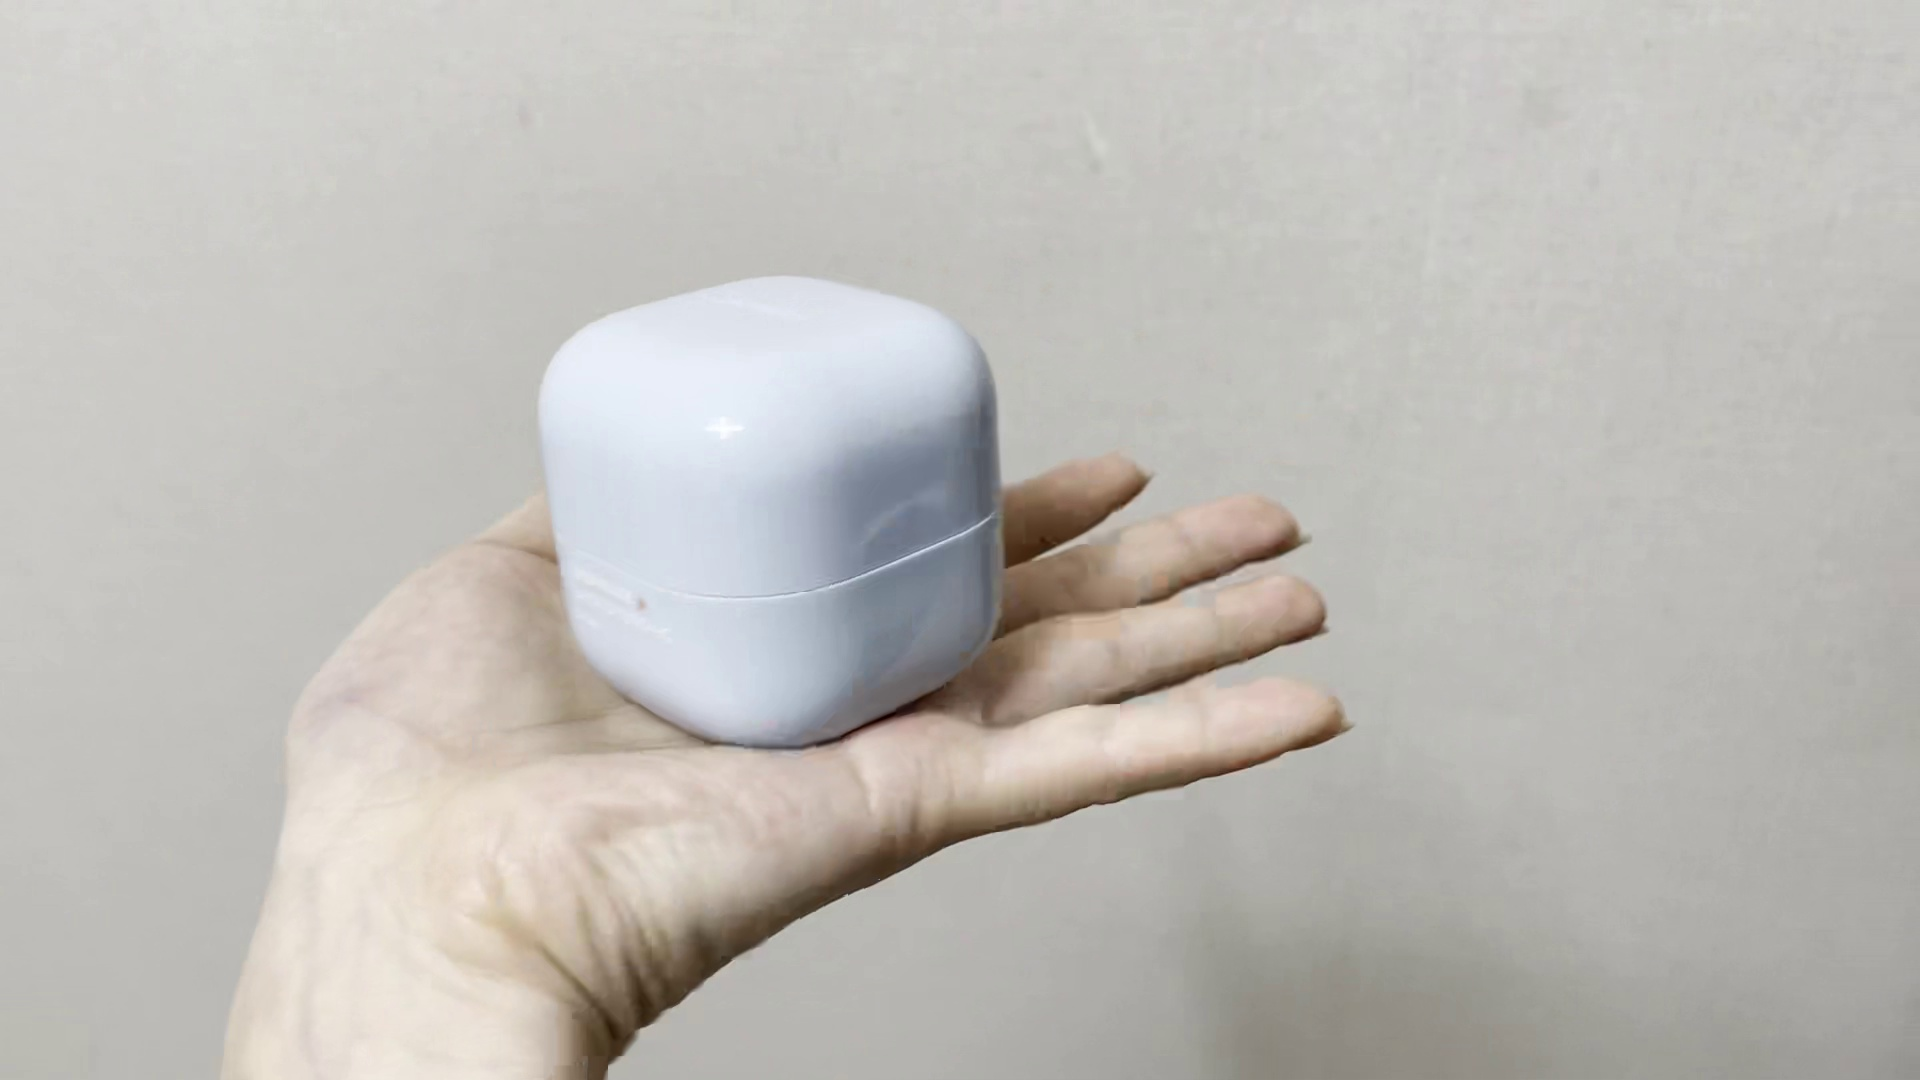cream: (538, 276, 1004, 752)
